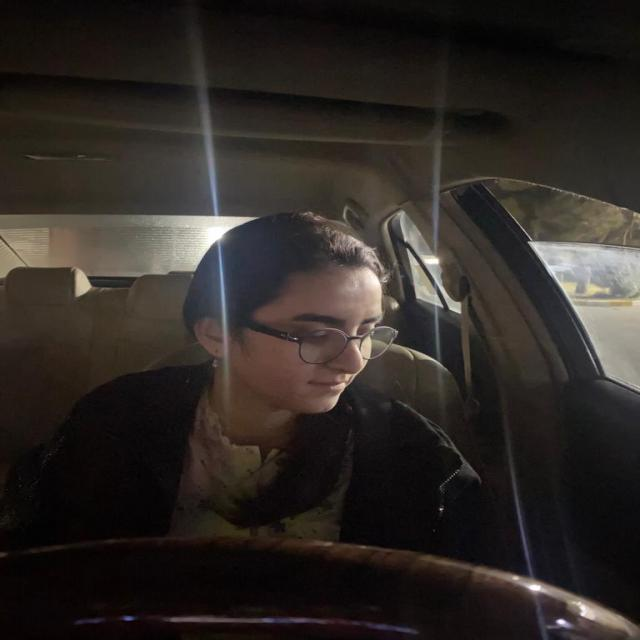drowsy: (200, 209, 406, 426)
